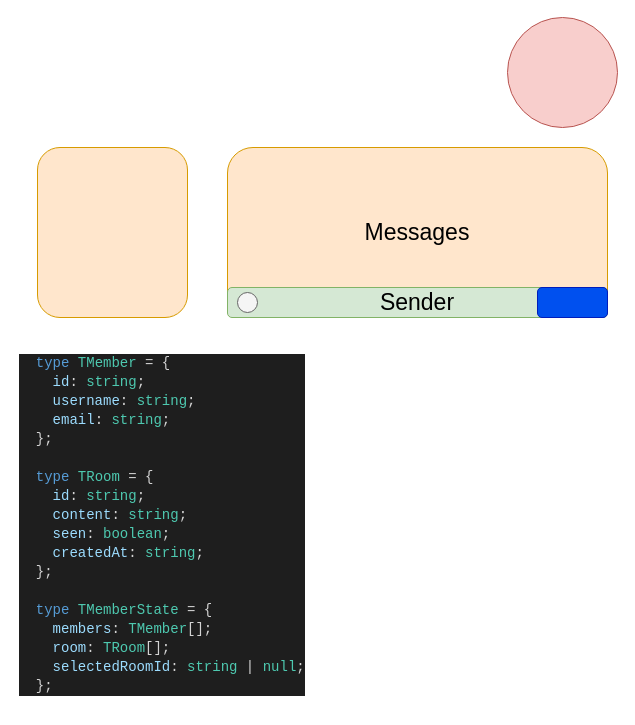
This 635x725 diagram has some shape labels left out. The centre of each missing label's shape, as x and y in pixels:
"Members List" goes at [112,232].
"Store" goes at [562,72].
